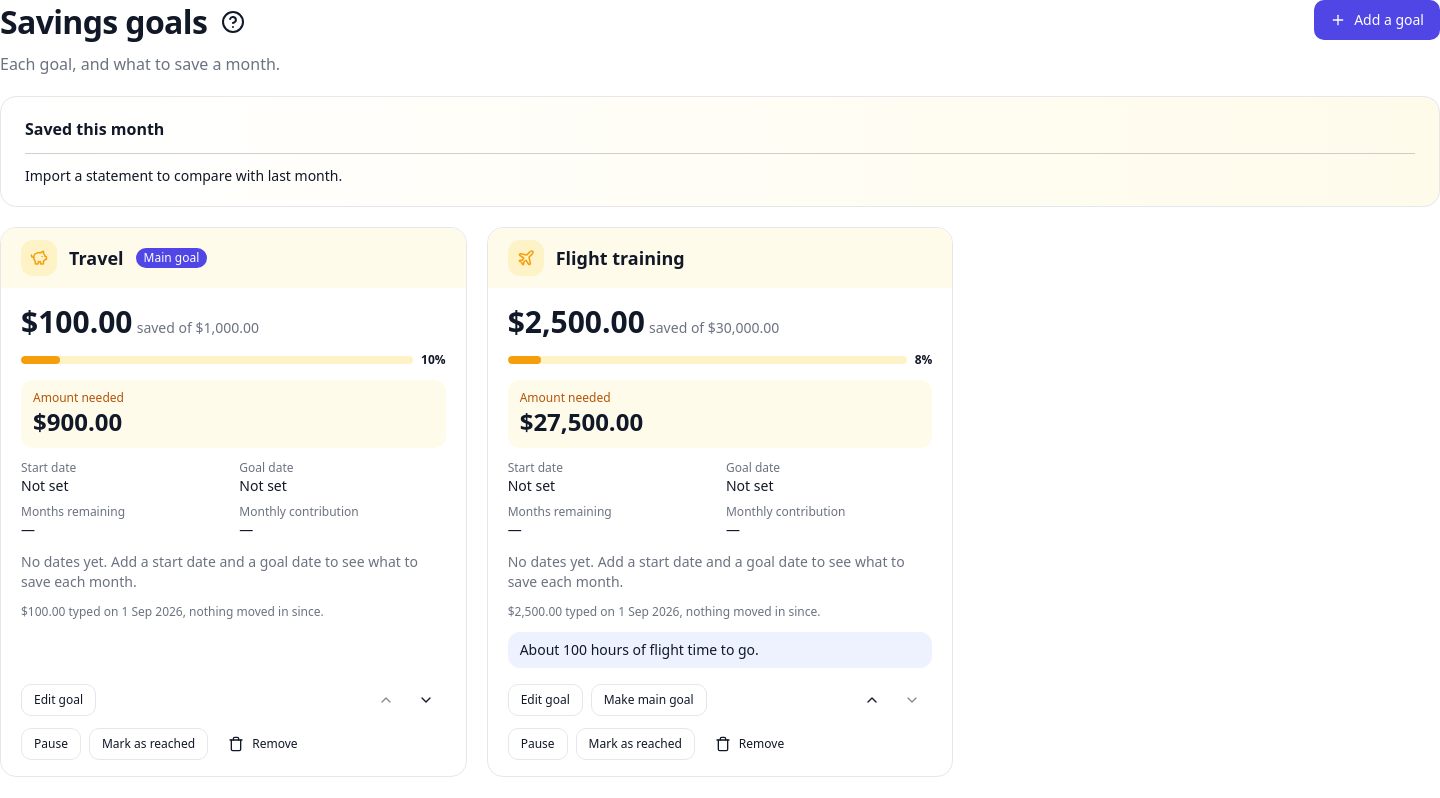
Test: Savings, showing a goal in dollars or in hours (G1, F45) › edits a goal from hours back to dollars
What coordinates should you click on to do the following:
click the button "Edit goal" below "About"
I would click on:
 (545, 700)
Its box is 508,684 -> 583,716.
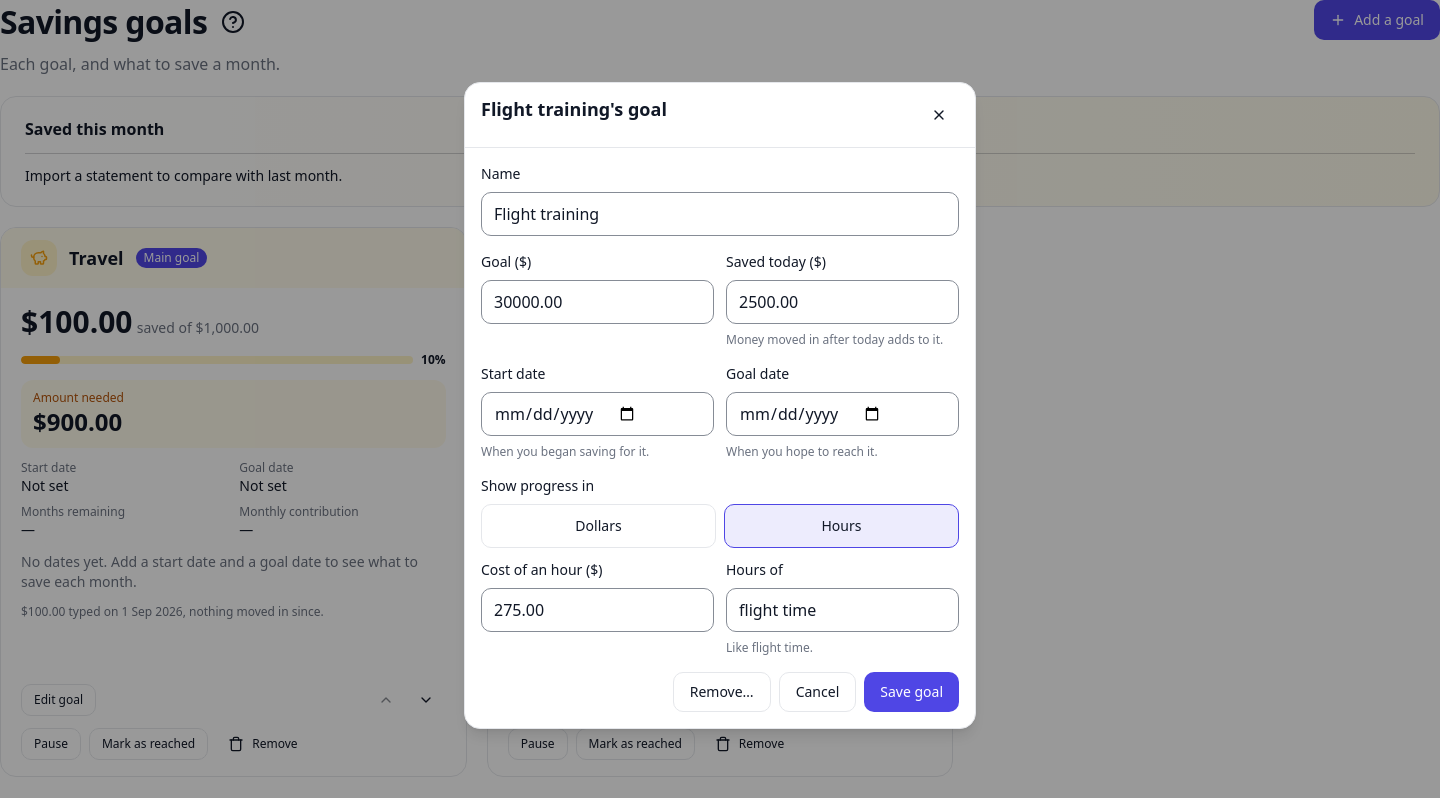
Expected: the radio button labelled "Hours" is checked, 724,504 -> 959,548
Expected: the field labelled "Cost of an hour ($)" holds "275.00", 481,588 -> 714,632
Expected: the field labelled "Hours of Like flight time." holds "flight time", 726,588 -> 959,632
What coordinates should you click on to do the following:
click the radio button labelled "Dollars"
I would click on:
 (598, 526)
Its box is 481,504 -> 716,548.
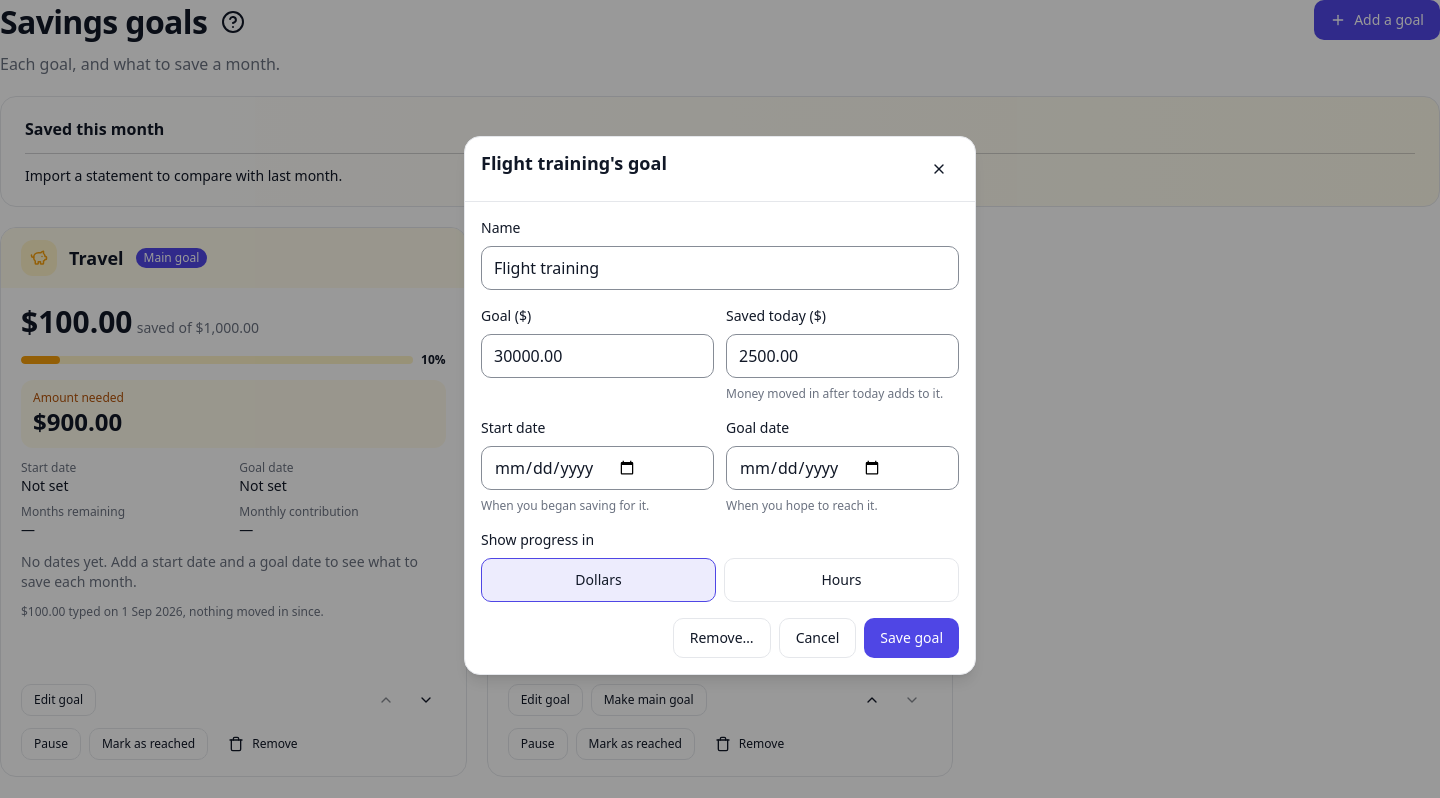
Expected: the text labelled "Cost of an hour" is gone
What coordinates should you click on to do the following:
click the button "Save goal"
I would click on:
 (912, 638)
Its box is 864,618 -> 959,658.
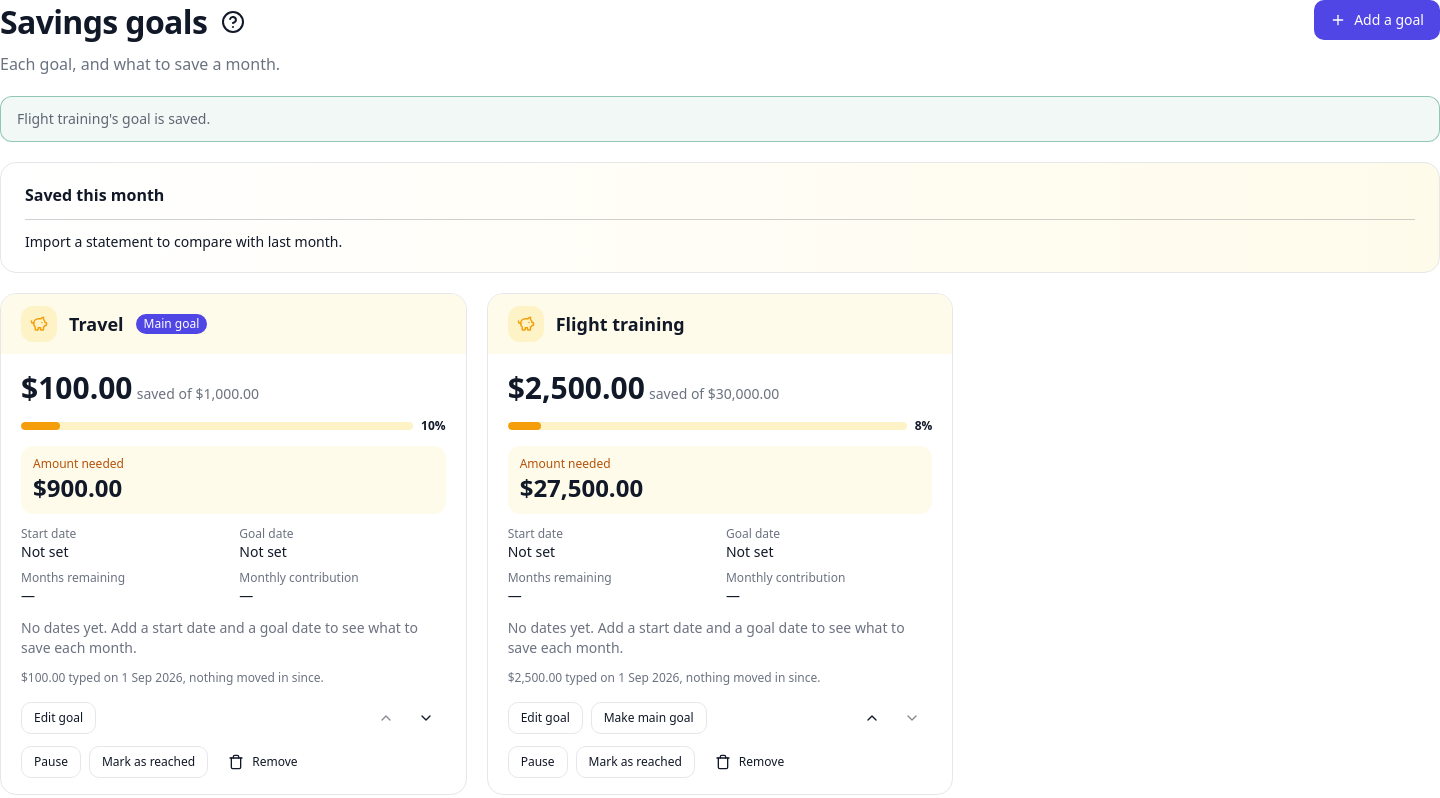
Expected: the text "Flight training's goal is saved." is shown, 17,109 -> 210,128
